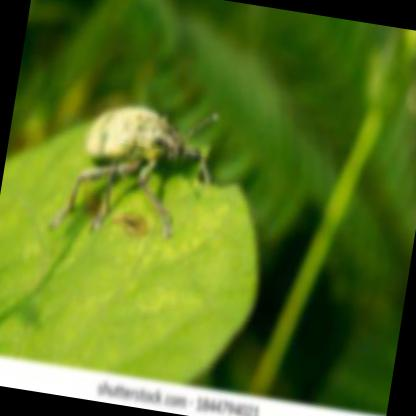ash weevil: (83, 106, 217, 185)
